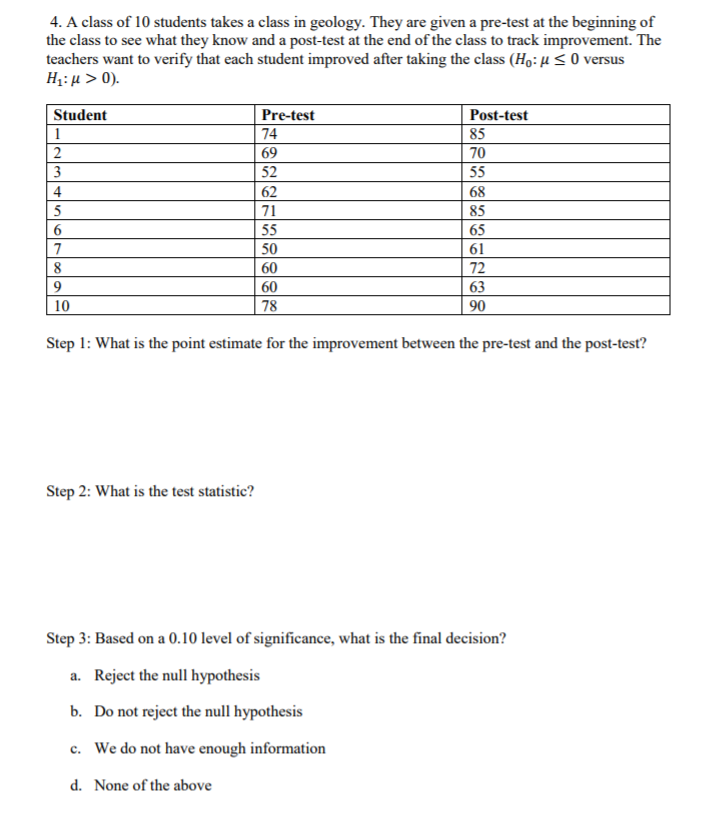fracking table: (44, 98, 677, 321)
